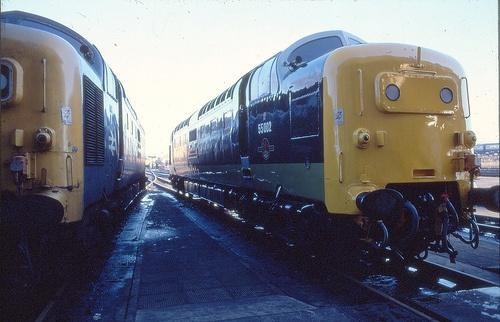train: (171, 25, 486, 275), (1, 5, 150, 293)
